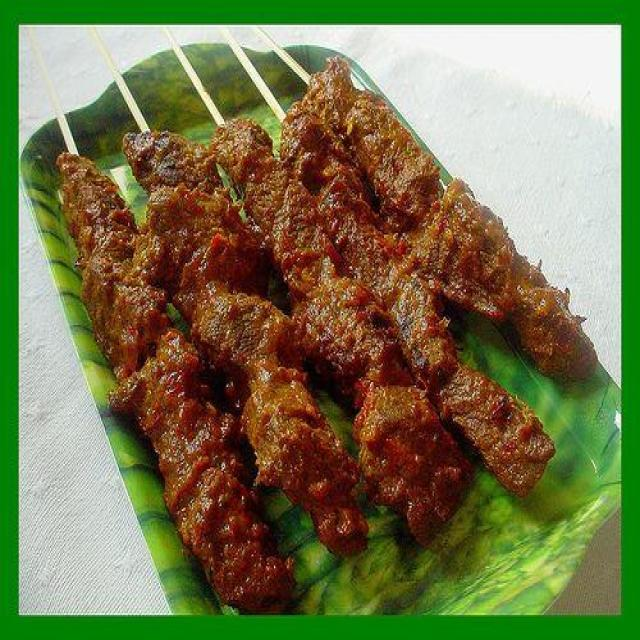Sate: (38, 33, 581, 559)
